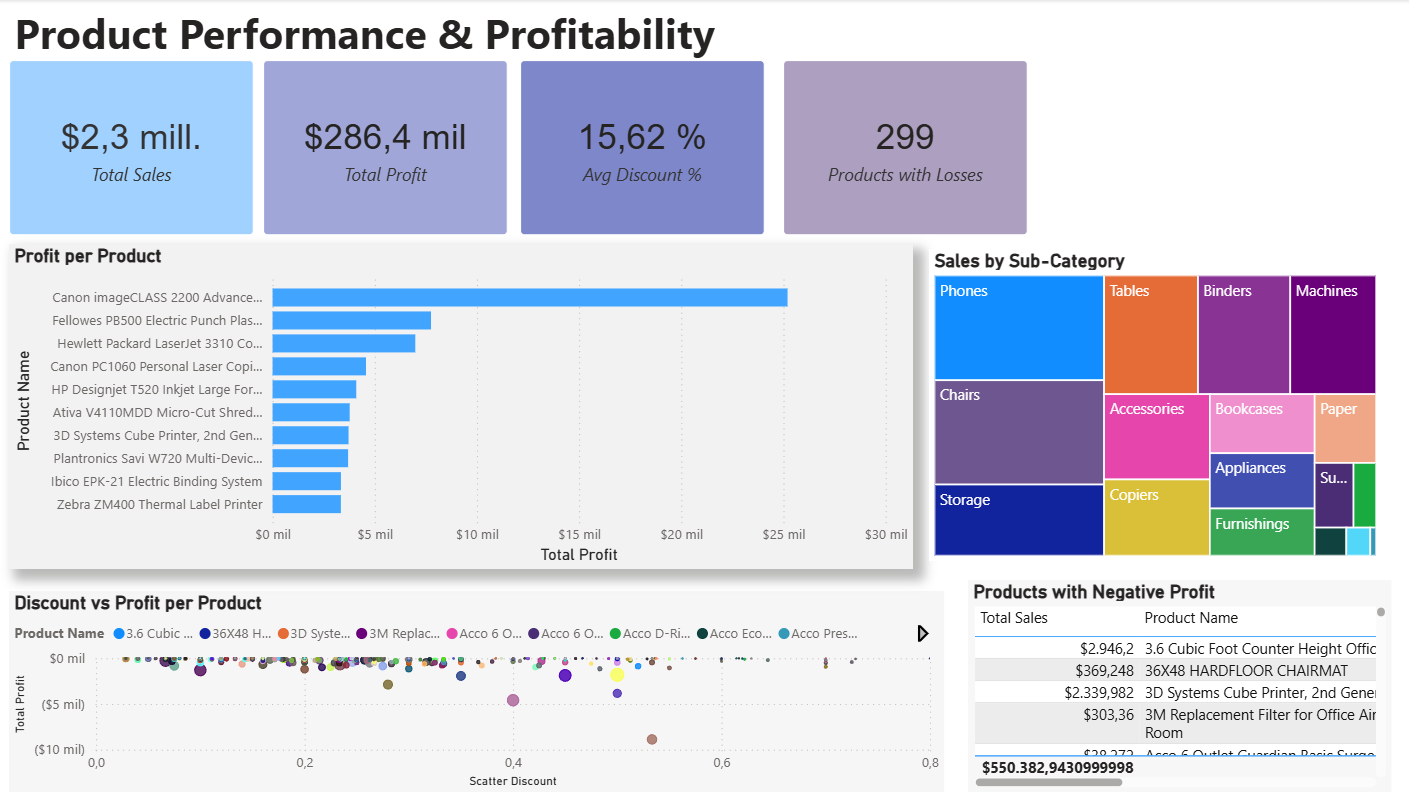

The dashboard page shown, as its layout file describes it:
{"tool":"powerbi","page":{"name":"Product Performance & Profitability","canvas":[1280,720],"ordinal":2},"visuals":[{"type":"textbox","box":[9.7,0,789.8,63.2],"z":0},{"type":"card","fields":{"Values":["superstore.Total Sales"]},"box":[9.7,55.4,221.8,158.5],"z":1000},{"type":"card","fields":{"Values":["superstore.Total Profit"]},"box":[240.2,55.4,221.8,158.5],"z":2000},{"type":"card","fields":{"Values":["superstore.Avg Discount %"]},"box":[473.7,55.4,221.8,158.5],"z":3000},{"type":"card","fields":{"Values":["superstore.Products with Losses"]},"box":[712,55.4,221.8,158.5],"z":4000},{"type":"barChart","title":"Profit per Product","fields":{"Category":["superstore.Product Name"],"Y":["superstore.Total Profit"]},"box":[9.7,221.8,819.9,294.7],"z":5000},{"type":"treemap","title":"Sales by Sub-Category","fields":{"Group":["superstore.Sub-Category"],"Values":["superstore.Total Sales"]},"box":[844.3,226.6,410.5,283],"z":6000},{"type":"scatterChart","title":"Discount vs Profit per Product","fields":{"Y":["superstore.Total Profit"],"X":["superstore.Scatter Discount"],"Series":["superstore.Product Name"],"Size":["superstore.Total Sales"]},"box":[9.7,536.9,848.1,182.9],"z":7000},{"type":"tableEx","title":"Products with Negative Profit","fields":{"Values":["superstore.Total Sales","superstore.Product Name","superstore.Total Profit","Sum(superstore.Discount)","superstore.Category","superstore.Sub-Category"]},"box":[879.3,527.2,384.2,192.6],"z":8000}]}

Visuals, with their boxes in screenshot pixels (x1, y1, x2, y2), scaled from the page's 1280x720 canvas onto the 1409x792 screenshot:
textbox: (left=11, top=0, right=880, bottom=70)
card - superstore.Total Sales: (left=11, top=61, right=255, bottom=235)
card - superstore.Total Profit: (left=264, top=61, right=509, bottom=235)
card - superstore.Avg Discount %: (left=521, top=61, right=766, bottom=235)
card - superstore.Products with Losses: (left=784, top=61, right=1028, bottom=235)
"Profit per Product" barChart: (left=11, top=244, right=913, bottom=568)
"Sales by Sub-Category" treemap: (left=929, top=249, right=1381, bottom=561)
"Discount vs Profit per Product" scatterChart: (left=11, top=591, right=944, bottom=791)
"Products with Negative Profit" tableEx: (left=968, top=580, right=1391, bottom=791)
